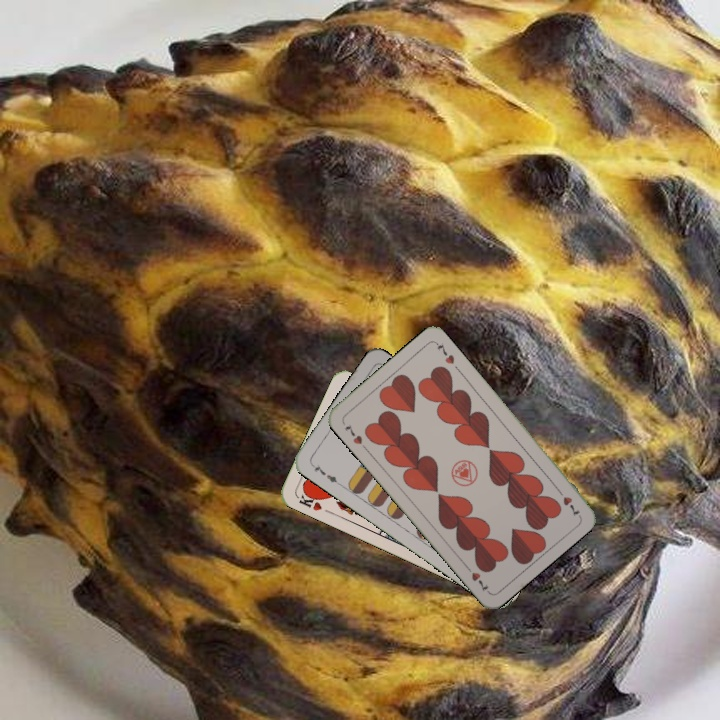E7: (307, 460, 343, 488)
H7: (553, 484, 582, 519), (341, 420, 365, 447)
HK: (294, 487, 325, 513)
